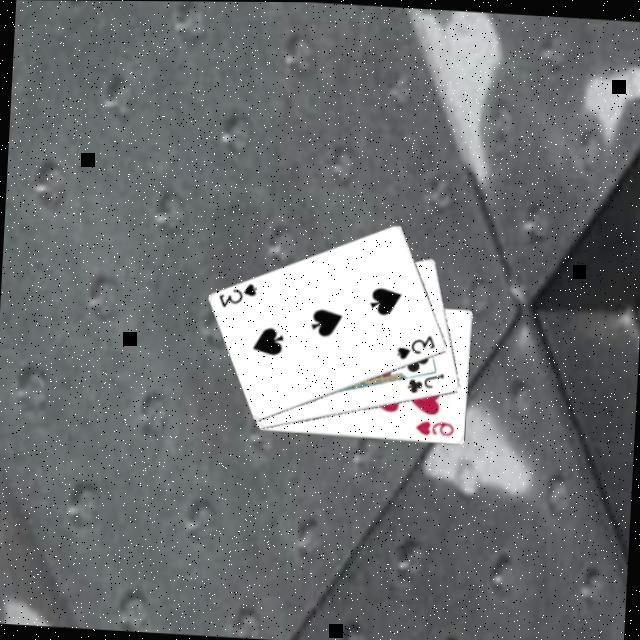3S: (217, 280, 263, 313), (396, 331, 441, 364)
9H: (415, 418, 460, 440)
JC: (406, 369, 449, 397)
